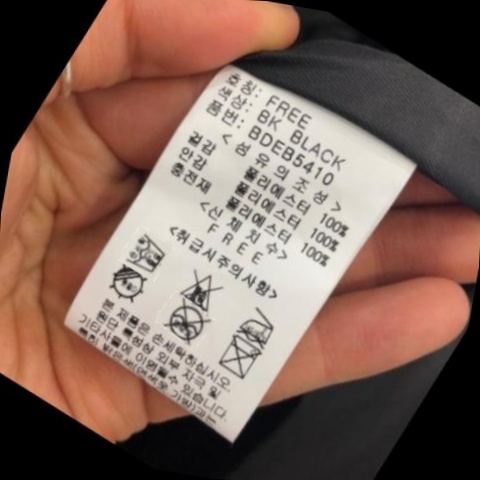DN_dry_clean: (161, 299, 220, 345)
DN_wash: (215, 335, 270, 384)
dry_flat: (121, 224, 182, 274)
iron_medium: (231, 297, 290, 348)
line_dry_in_shade: (107, 266, 156, 307)
non_chlorine_bleach: (173, 266, 226, 312)
